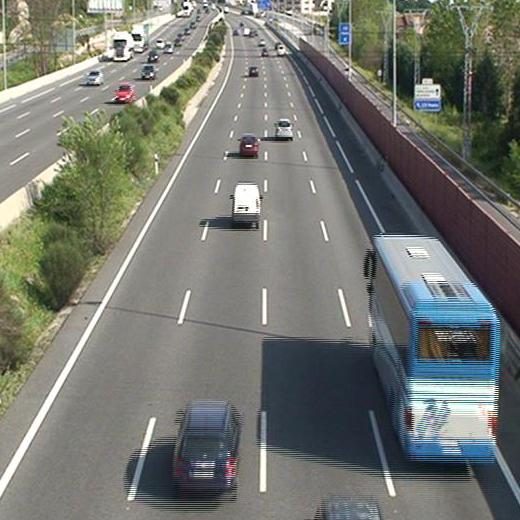bus: (370, 236, 500, 463)
car: (174, 406, 237, 485), (240, 136, 258, 155), (274, 119, 292, 137), (247, 66, 258, 76), (262, 49, 268, 56)
van: (232, 183, 261, 221), (276, 45, 284, 56)
